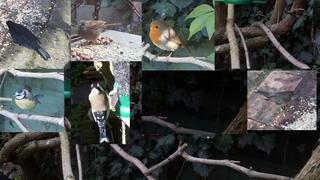blackbird: (6, 20, 51, 61), (255, 90, 296, 113)
blue tit: (13, 89, 44, 119)
dunnock: (77, 20, 122, 46)
goldfinch: (88, 81, 110, 143)
robin: (146, 20, 195, 64)
